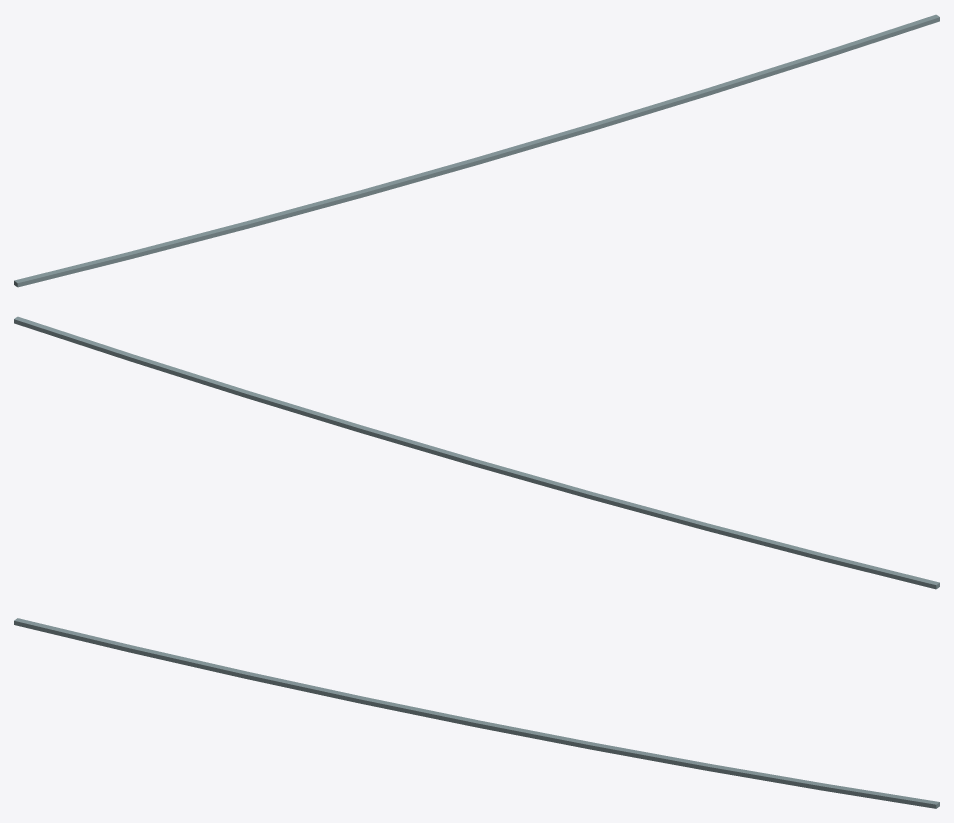
Rendered from RoadPlan_RampParapet_2L_Rise8_L110_LowerVerticalCurve_TopRail_1.glb.
The picture shows the model from 3 angles, top to bottom: view 1: azimuth 30°, elevation 25°; view 2: azimuth 150°, elevation 25°; view 3: azimuth 330°, elevation 25°; orthographic projection.
Visible parts, largest first — view 1: RoadPlan_RampParapet_2L_Rise8_L110_LowerVerticalCurve_TopRai; view 2: RoadPlan_RampParapet_2L_Rise8_L110_LowerVerticalCurve_TopRai; view 3: RoadPlan_RampParapet_2L_Rise8_L110_LowerVerticalCurve_TopRai.
Boxes of the visible parts, x1,y1,x2,y2 form: RoadPlan_RampParapet_2L_Rise8_L110_LowerVerticalCurve_TopRai: (14,14,939,287); RoadPlan_RampParapet_2L_Rise8_L110_LowerVerticalCurve_TopRai: (14,316,939,589); RoadPlan_RampParapet_2L_Rise8_L110_LowerVerticalCurve_TopRai: (14,618,939,808).
Size of the model in its own units: 16 by 0.7509 by 0.11.
